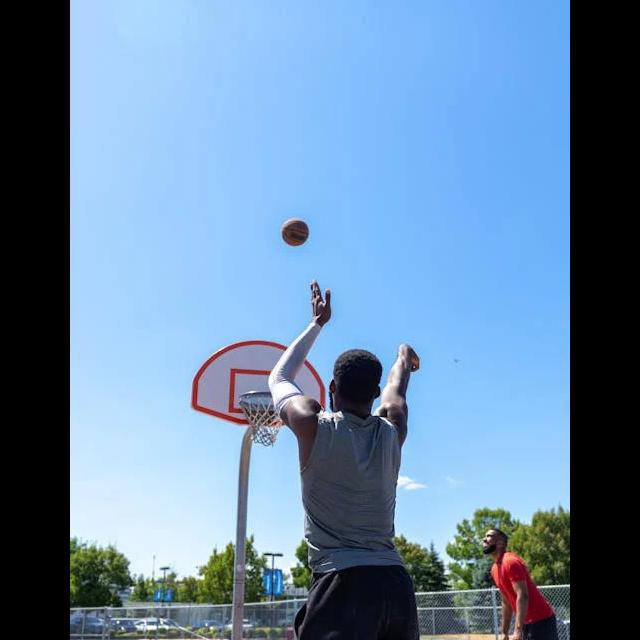basketball: (283, 218, 308, 245)
hoop: (239, 389, 287, 447)
